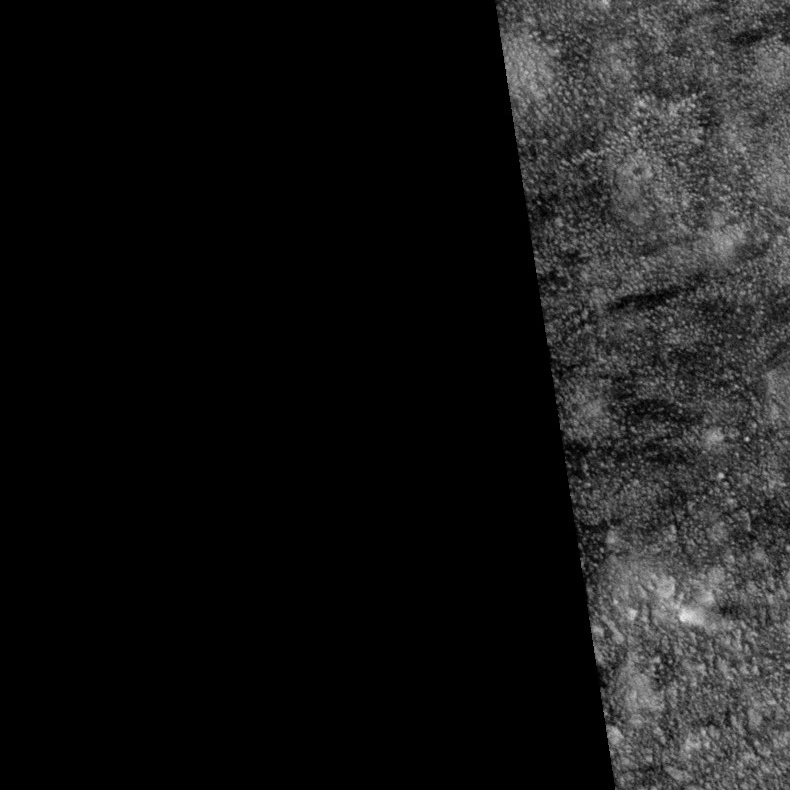dust_devil: (677, 598, 777, 636)
